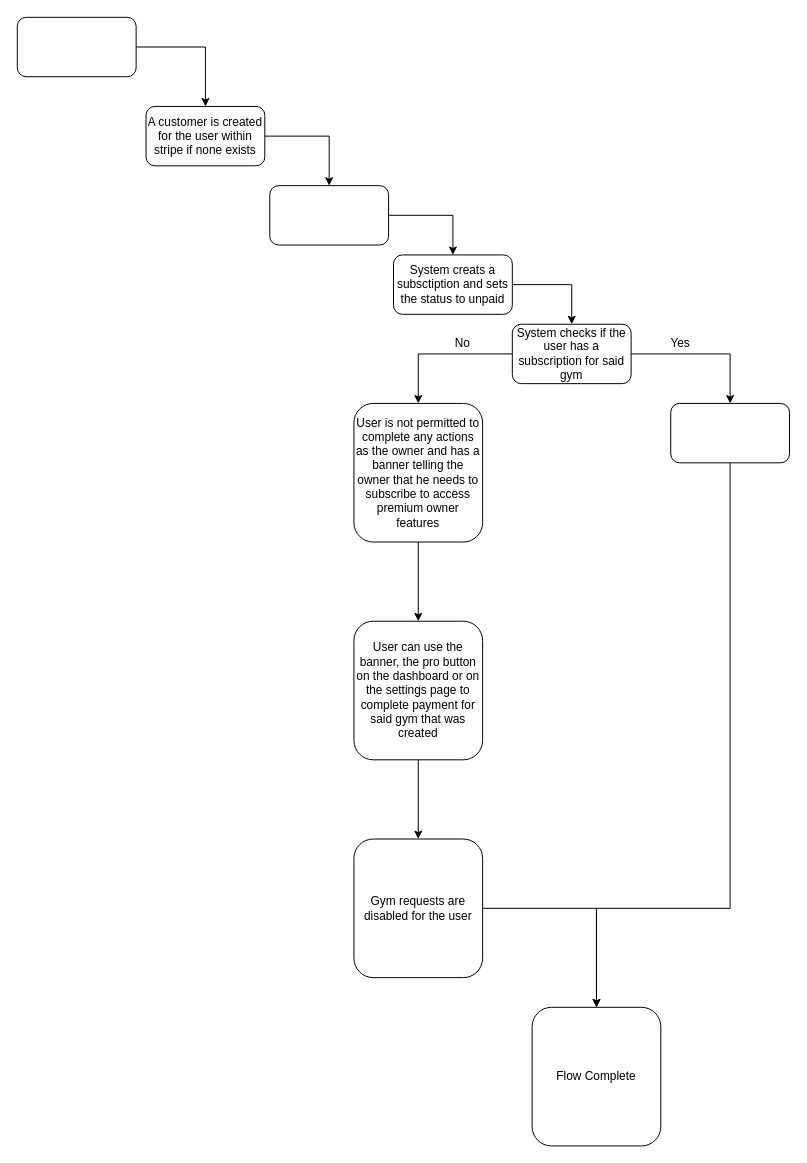
Some shapes in this 807 by 1163 pixel diagram are drawn without their labels. The centre of each missing label's shape, as x and y in pixels:
"Customer creates a gym" goes at (329,215).
"System operates as usual" goes at (730,432).
"User Signs In" goes at (76,46).
